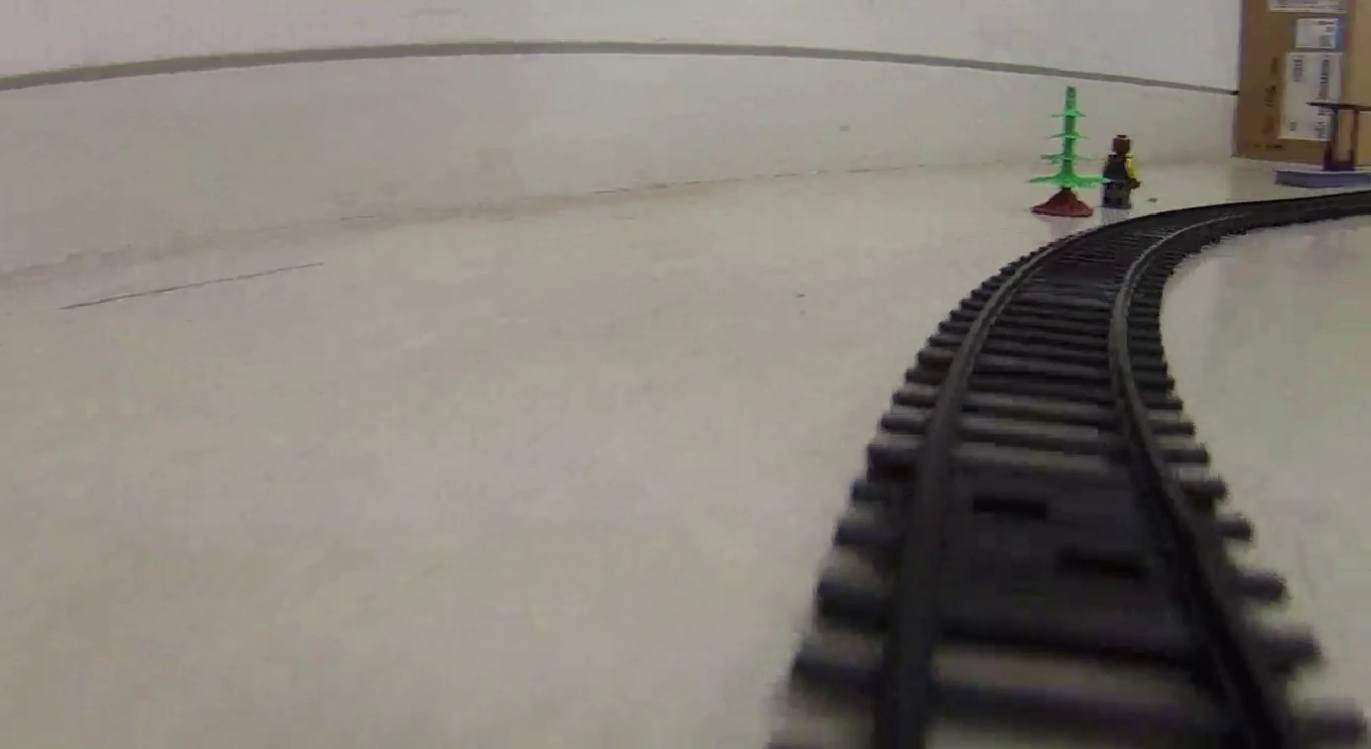people: (1100, 134, 1139, 209)
tree: (1028, 85, 1105, 219)
